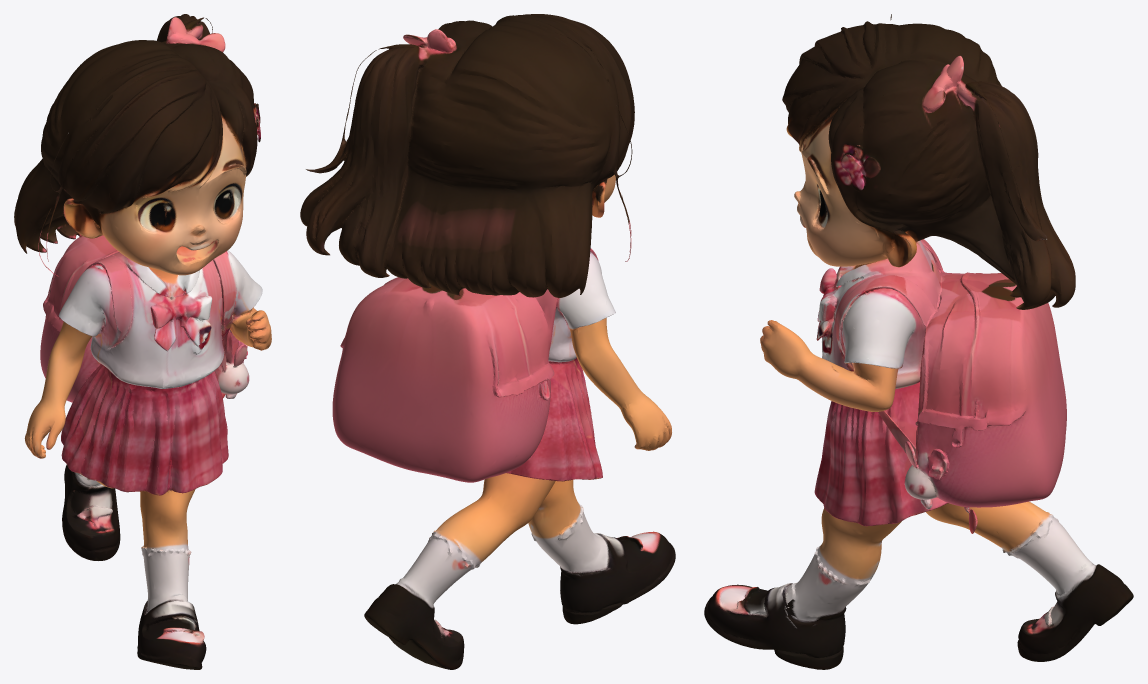
Rendered from jalan.glb.
3 renders of one model, left to right at view 1: azimuth 30°, elevation 25°; view 2: azimuth 150°, elevation 25°; view 3: azimuth 270°, elevation 25°, orthographic. The views are drawn at different scales.
Parts seen in each view (by area): view 1: model; view 2: model; view 3: model.
Boxes of the visible parts, bbox=[...] form: model: bbox=[14, 14, 271, 669]; model: bbox=[300, 14, 675, 669]; model: bbox=[704, 14, 1133, 669].
Bounding box in the file's own units: 0.9353 × 1.9 × 1.14.
Materials: 1 (1 with a texture image).
